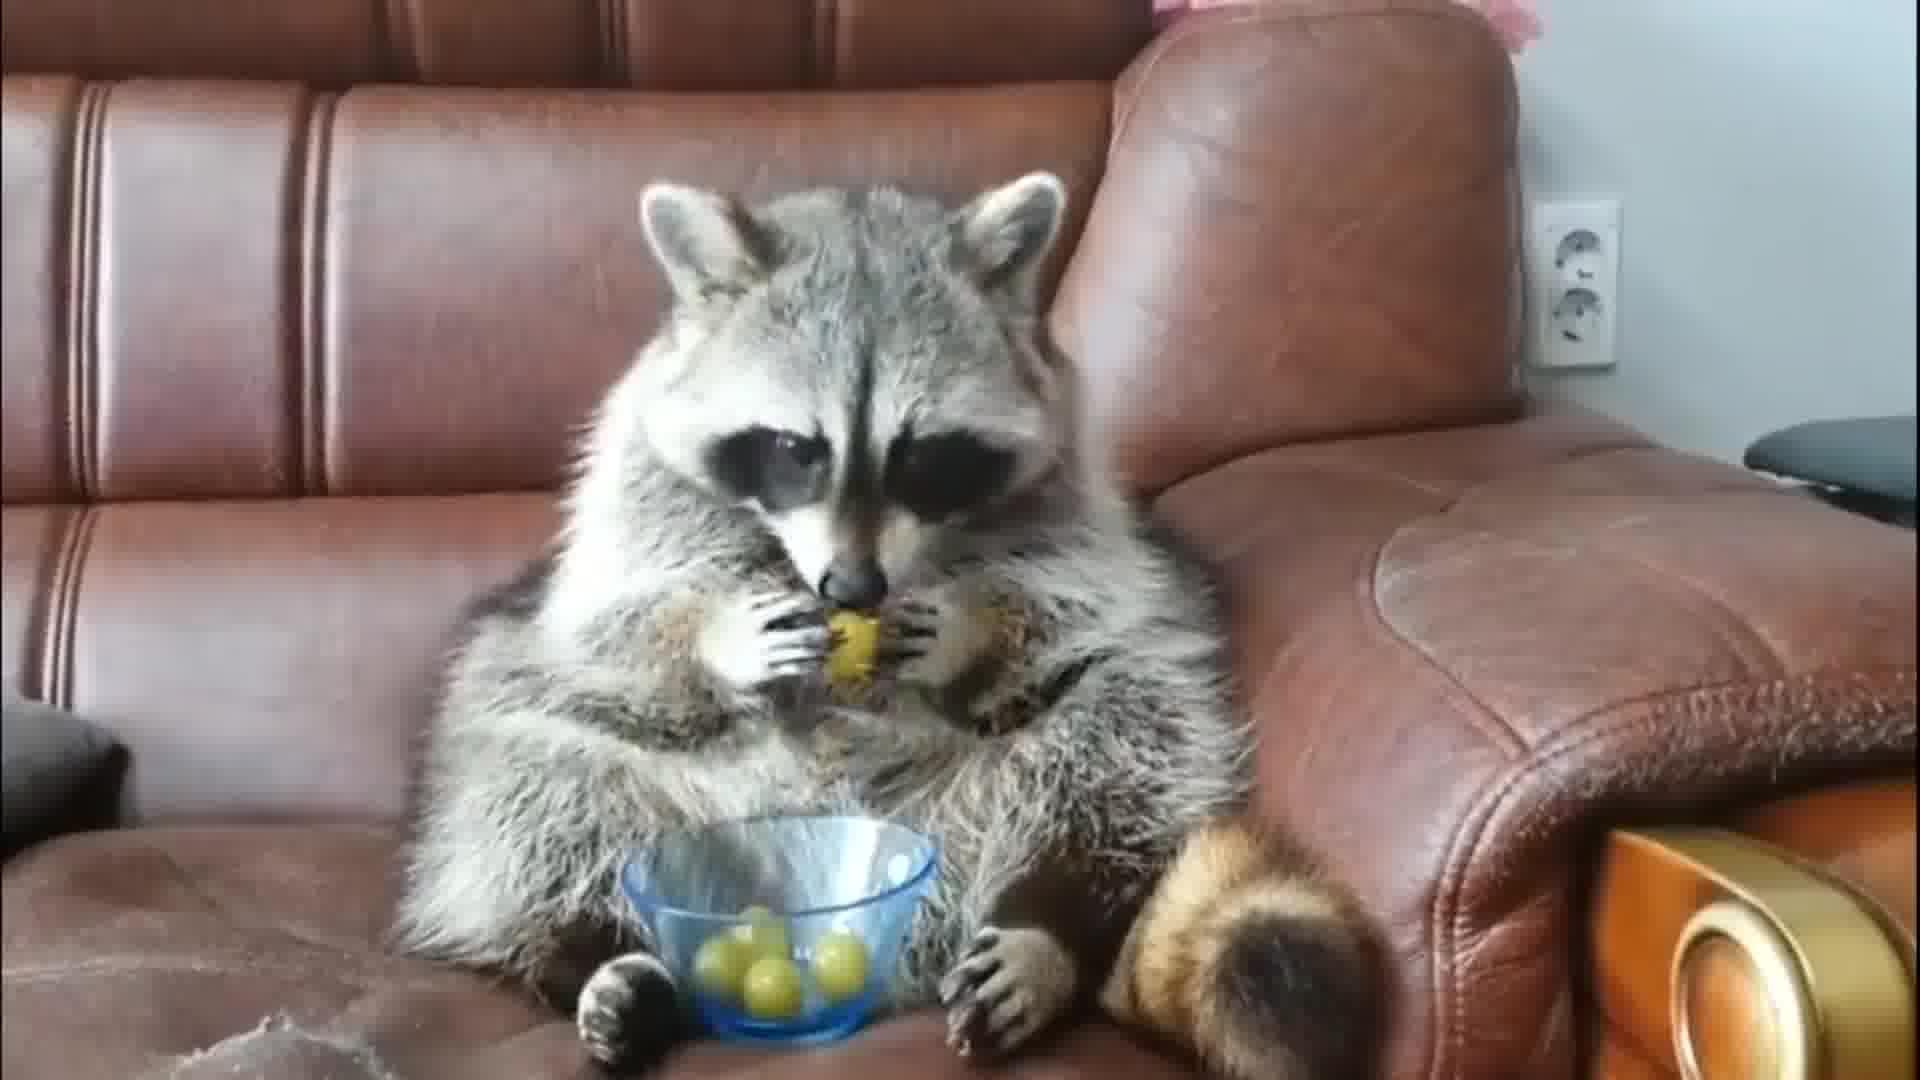raccoon: (384, 161, 1396, 1080)
